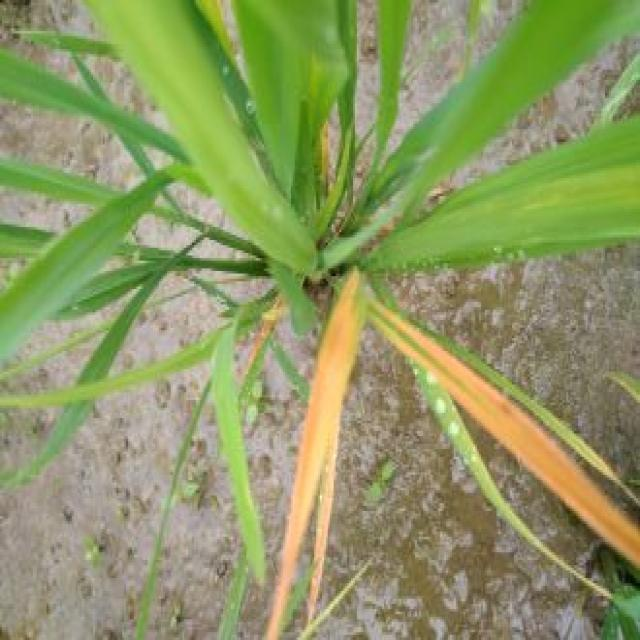Rice Tungro: (269, 303, 372, 640)
